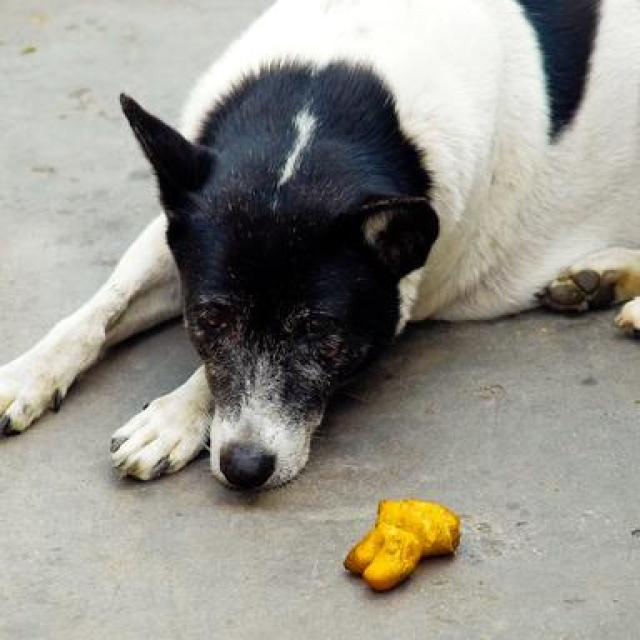sad: (13, 0, 640, 498)
